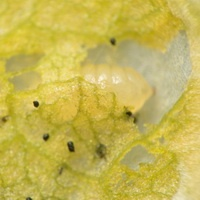insect: (78, 29, 192, 133)
